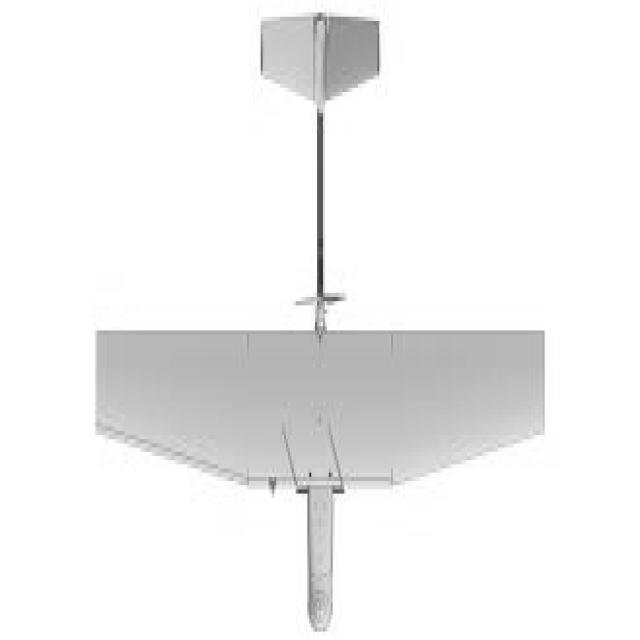iha: (31, 0, 543, 627)
